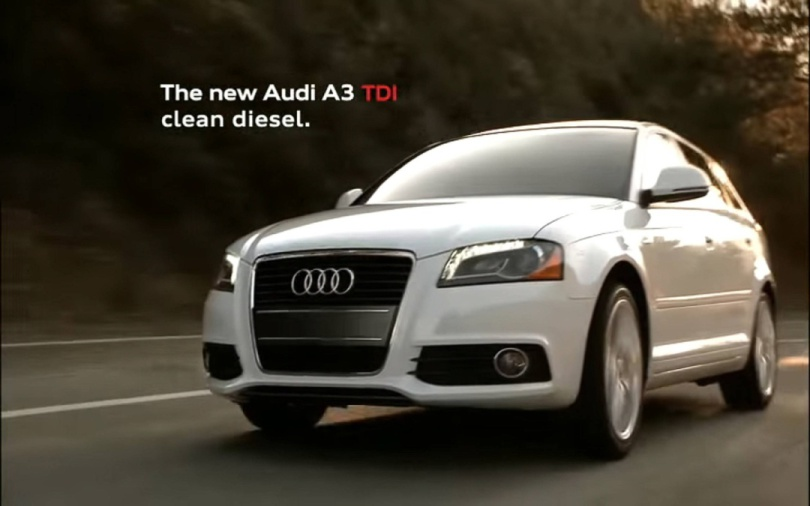audi: (288, 262, 360, 302)
